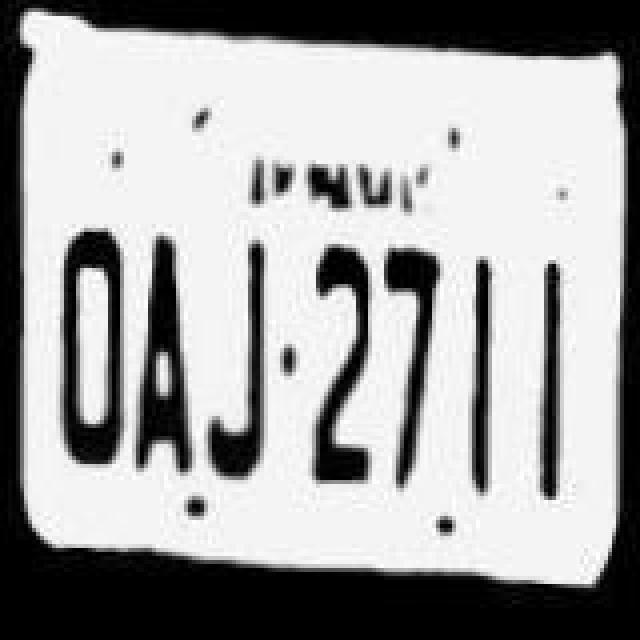1: (514, 250, 578, 502), (448, 250, 508, 510)
2: (296, 238, 384, 502)
7: (374, 236, 450, 500)
A: (126, 230, 202, 486)
J: (194, 224, 278, 488)
O: (48, 216, 128, 472)
